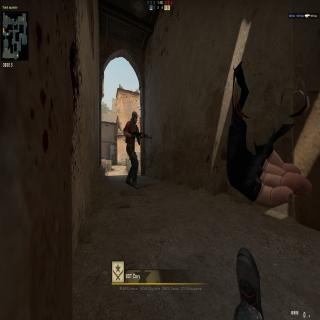T-Head: (130, 109, 138, 125)
